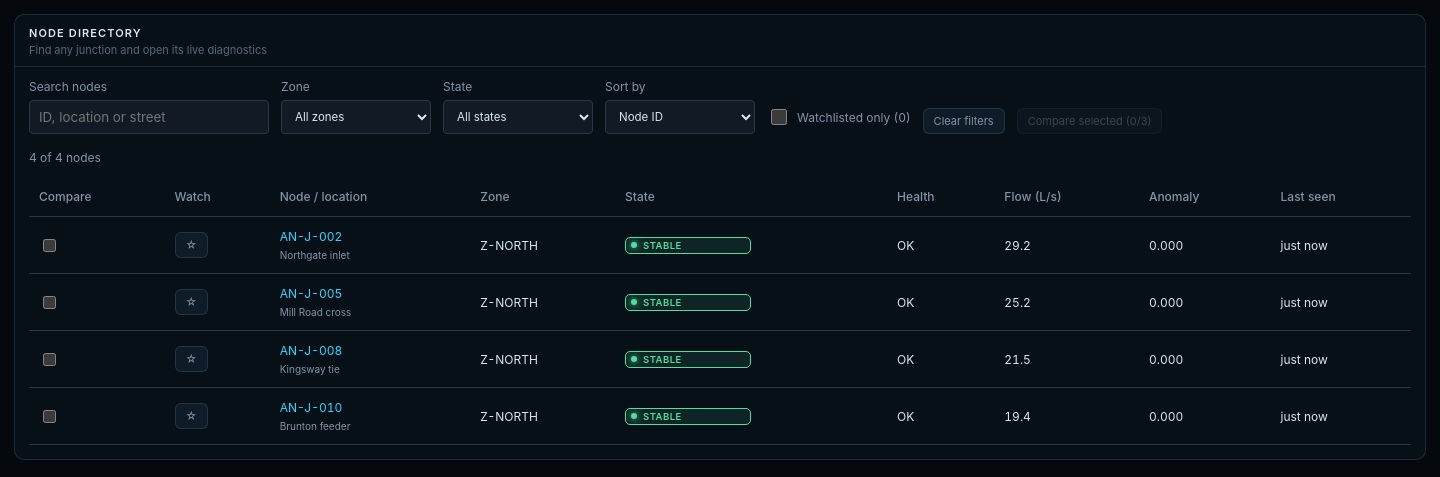
Test: directory comparison selection › keeps selections hidden by filters and lets the operator clear them
Click the checkbox named "Compare AN-J-002".
click(50, 245)  # box [43,238,56,252]
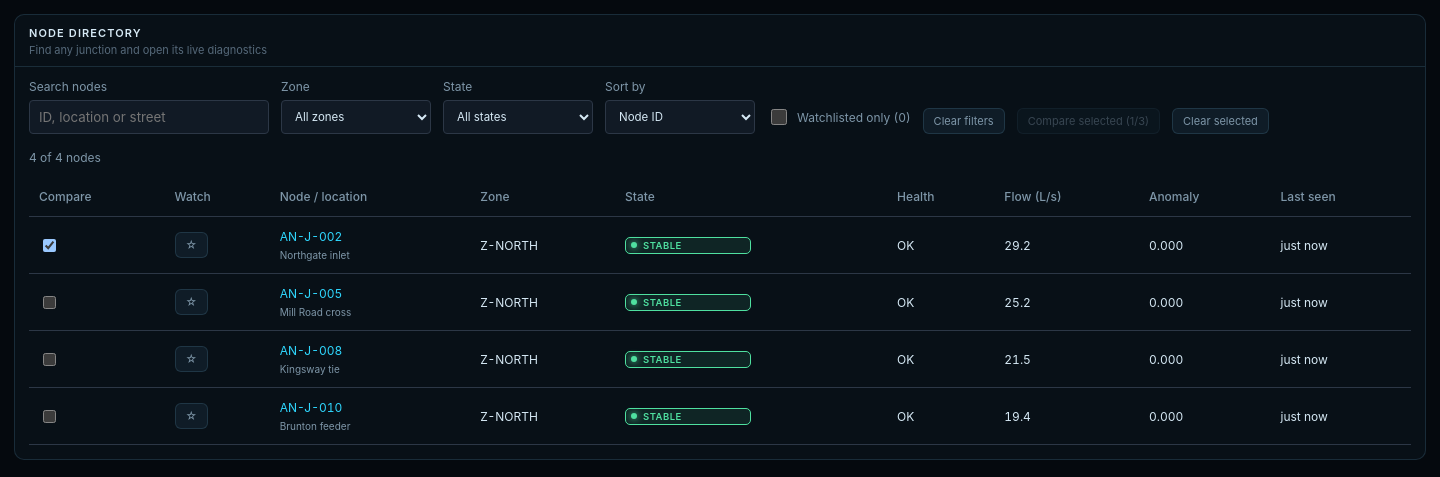
Click the checkbox named "Compare AN-J-005".
click(50, 302)  # box [43,296,56,308]
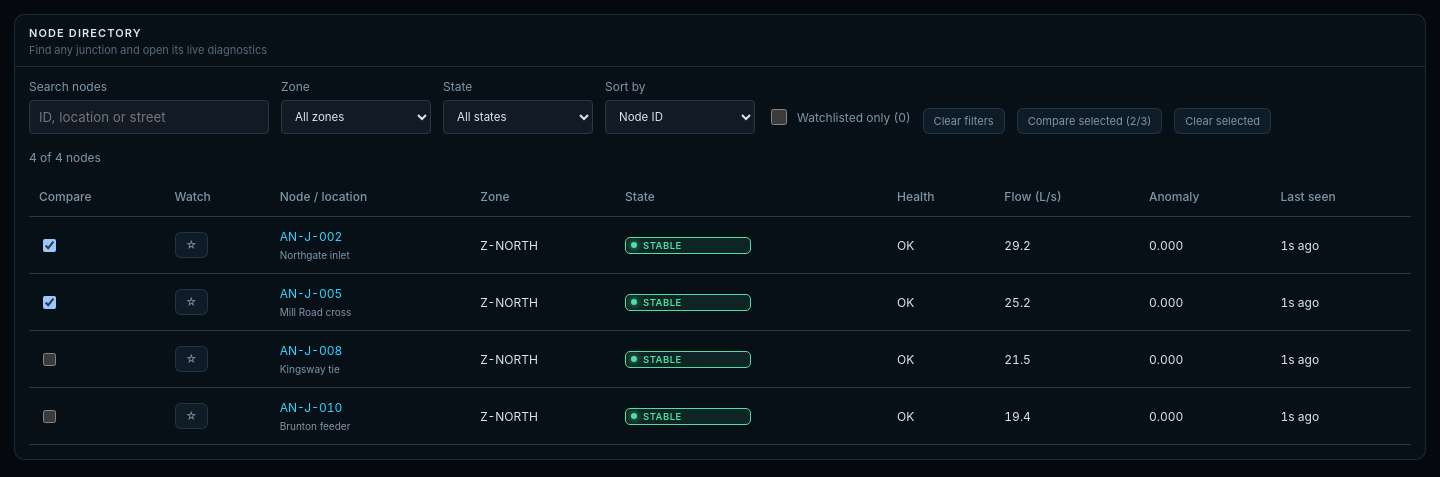
Click the checkbox named "Compare AN-J-008".
click(50, 359)  # box [43,352,56,366]
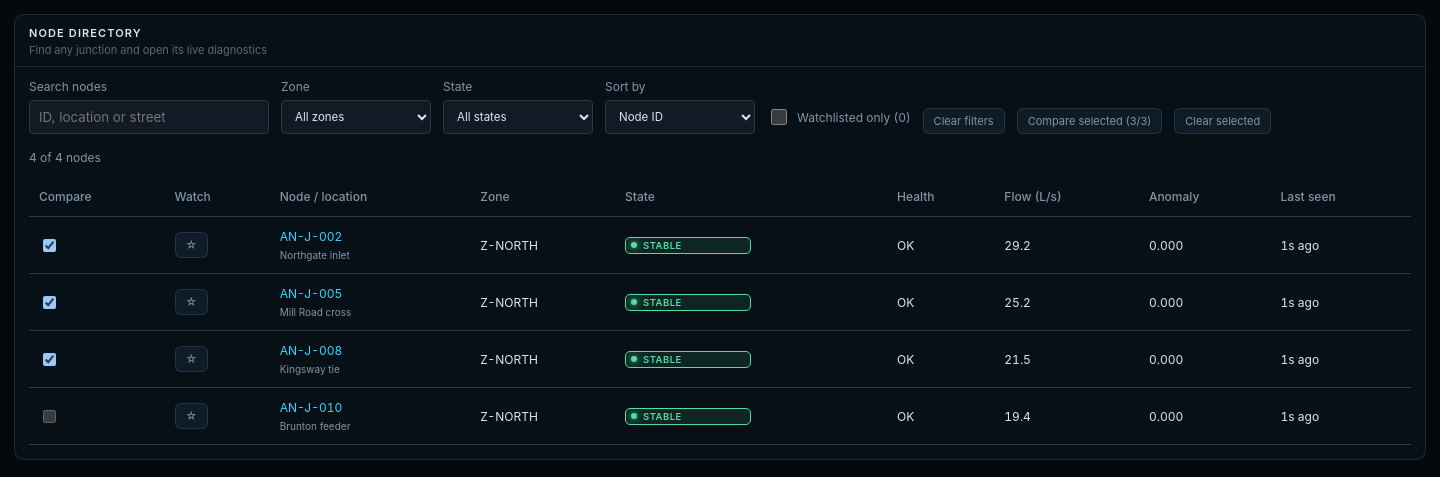
Type "AN-J-010" into the search field labelled "Search nodes".
click(149, 117); type("AN-J-010")  # box [29,100,269,134]
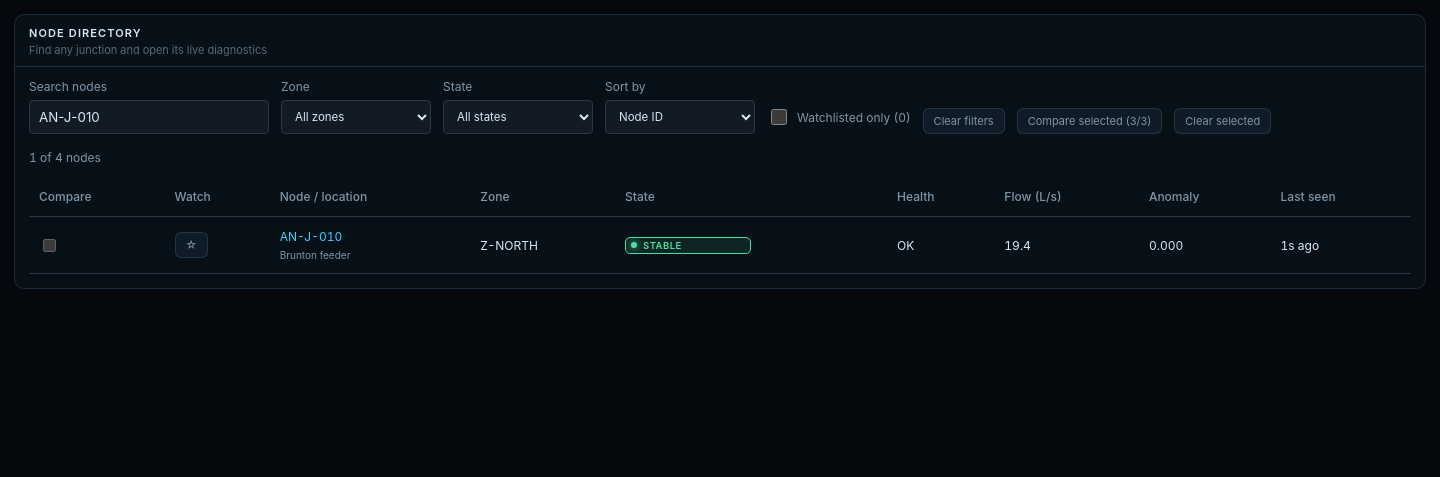
Result: the button "Compare selected (3/3)" is shown at [1017,108,1162,134]
Click the button "Clear selected".
click(1223, 121)  # box [1174,108,1271,134]
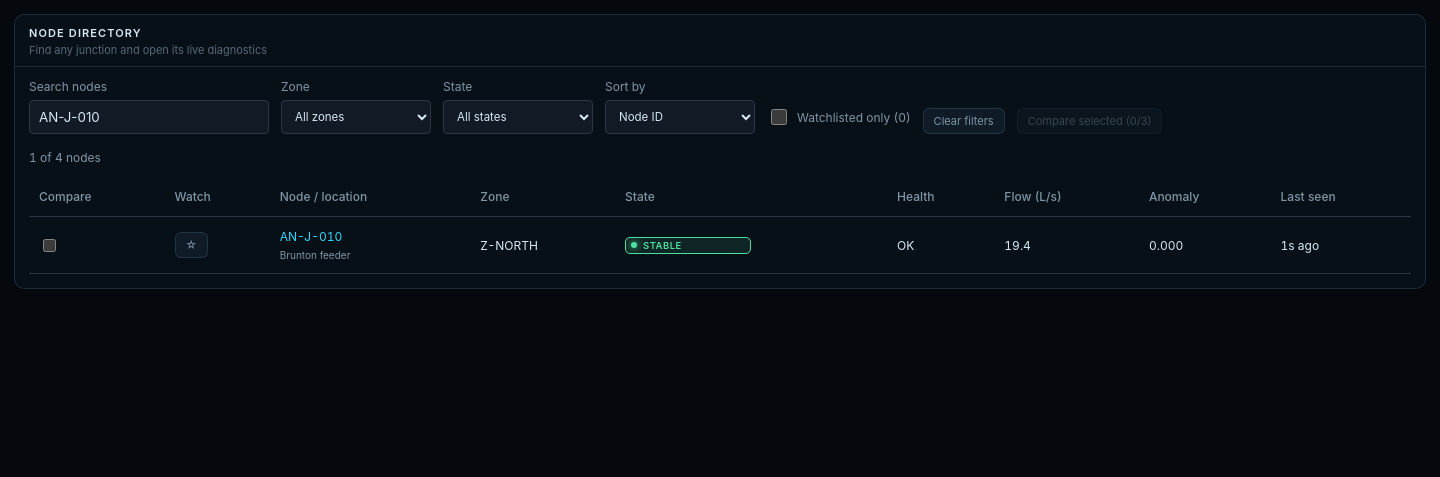
Result: the button "Compare selected (0/3)" is shown at [1017,108,1162,134]
Result: the button "Clear selected" is gone
